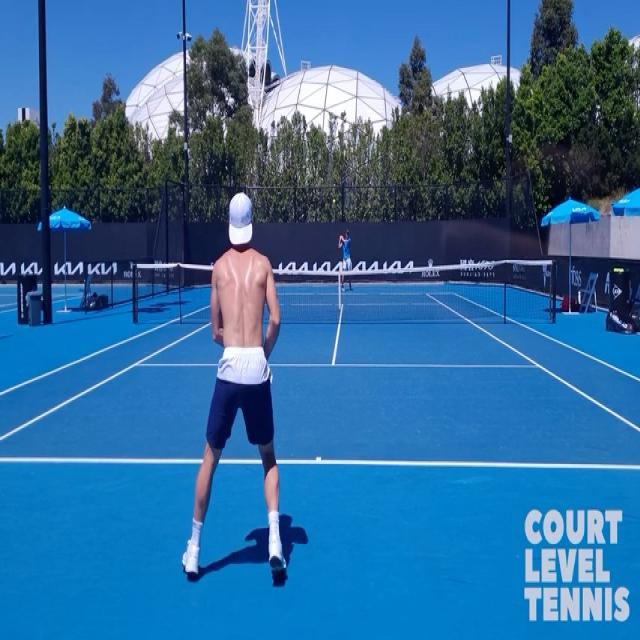ready-position: (177, 197, 290, 588)
